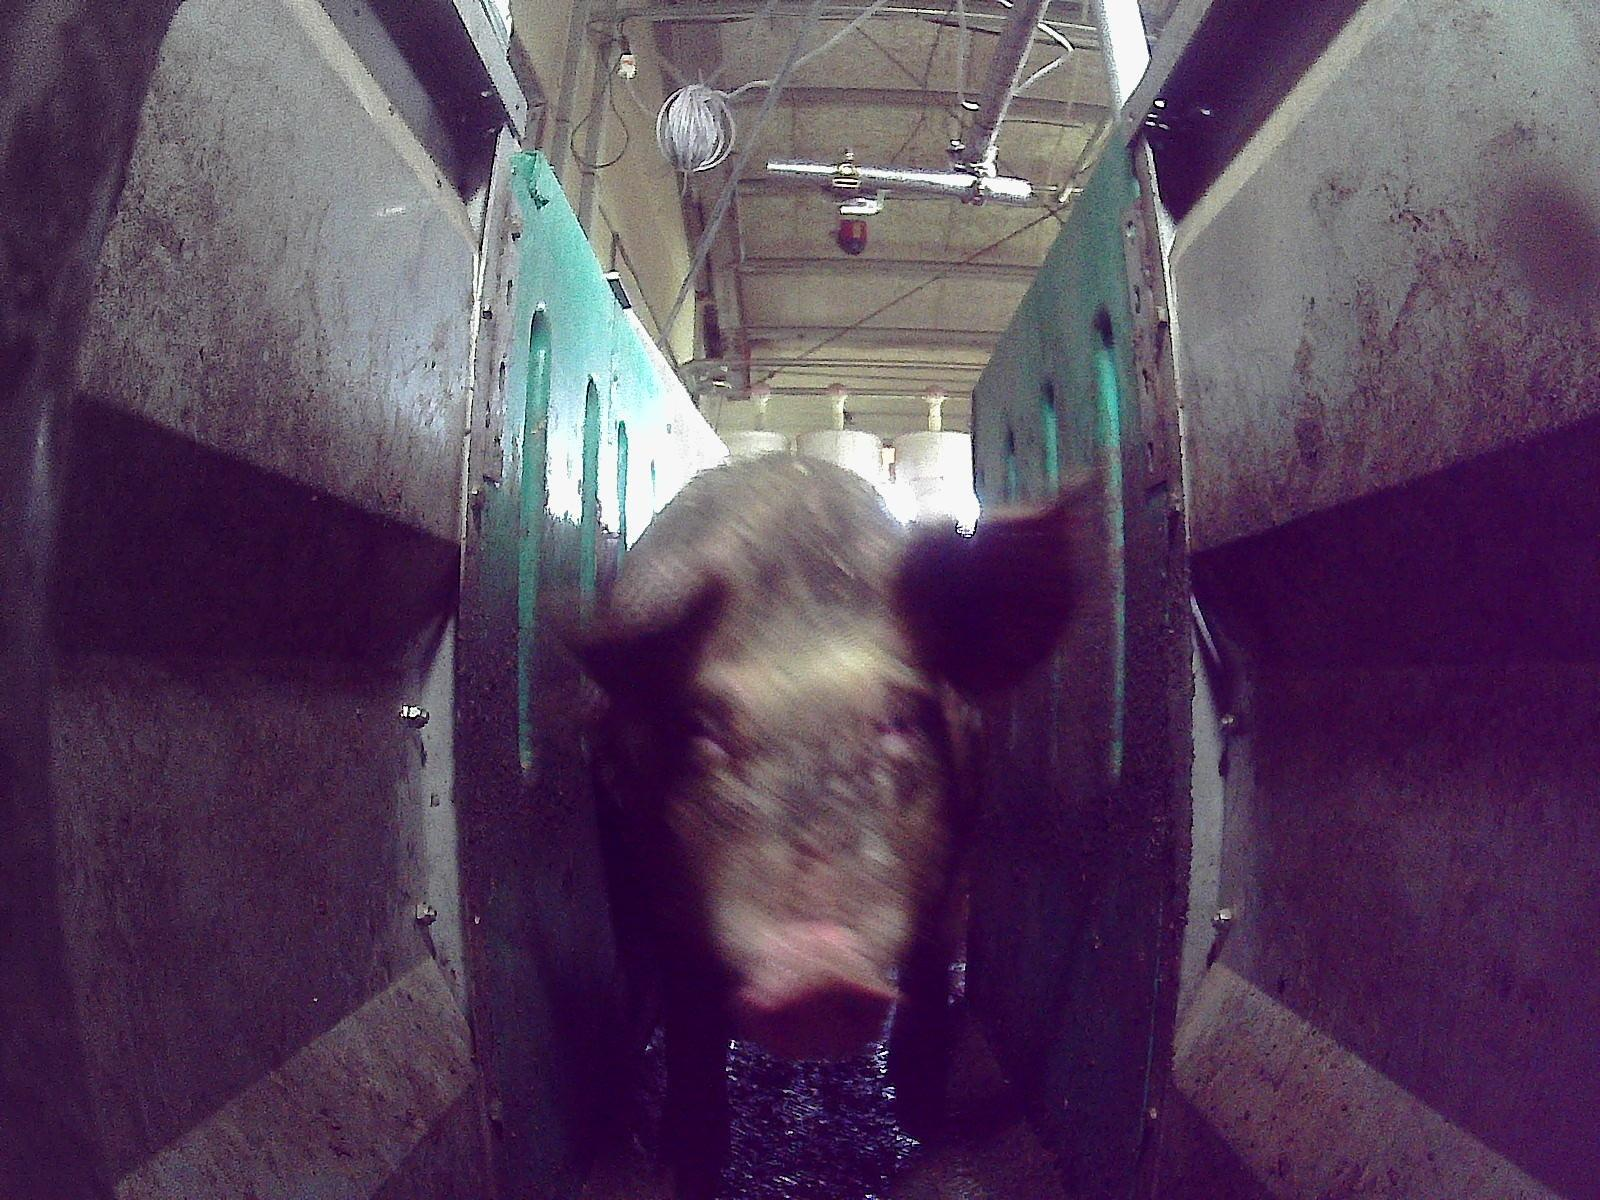Face: (618, 530, 976, 1059)
